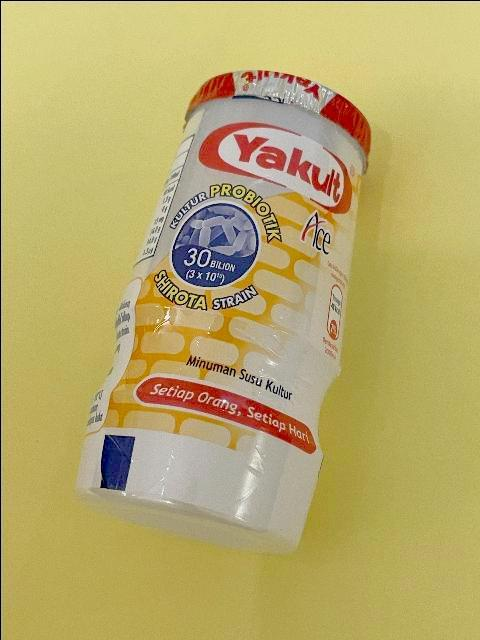plasticbottle: (74, 67, 370, 553)
